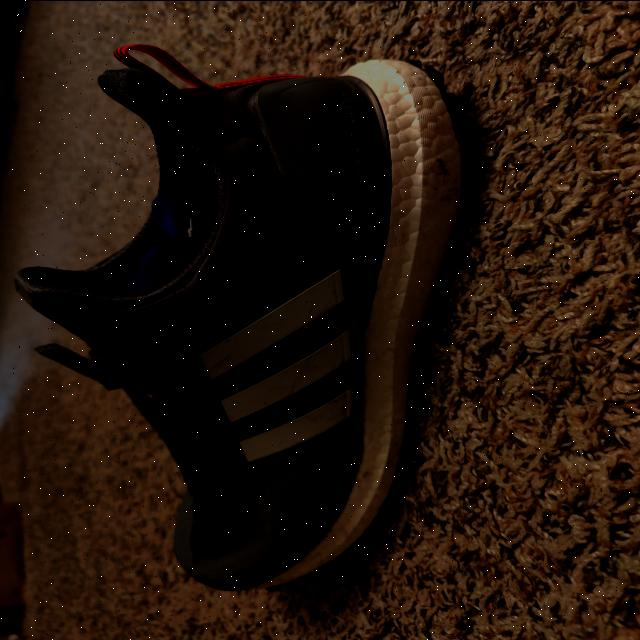black shoes: (11, 41, 458, 586)
